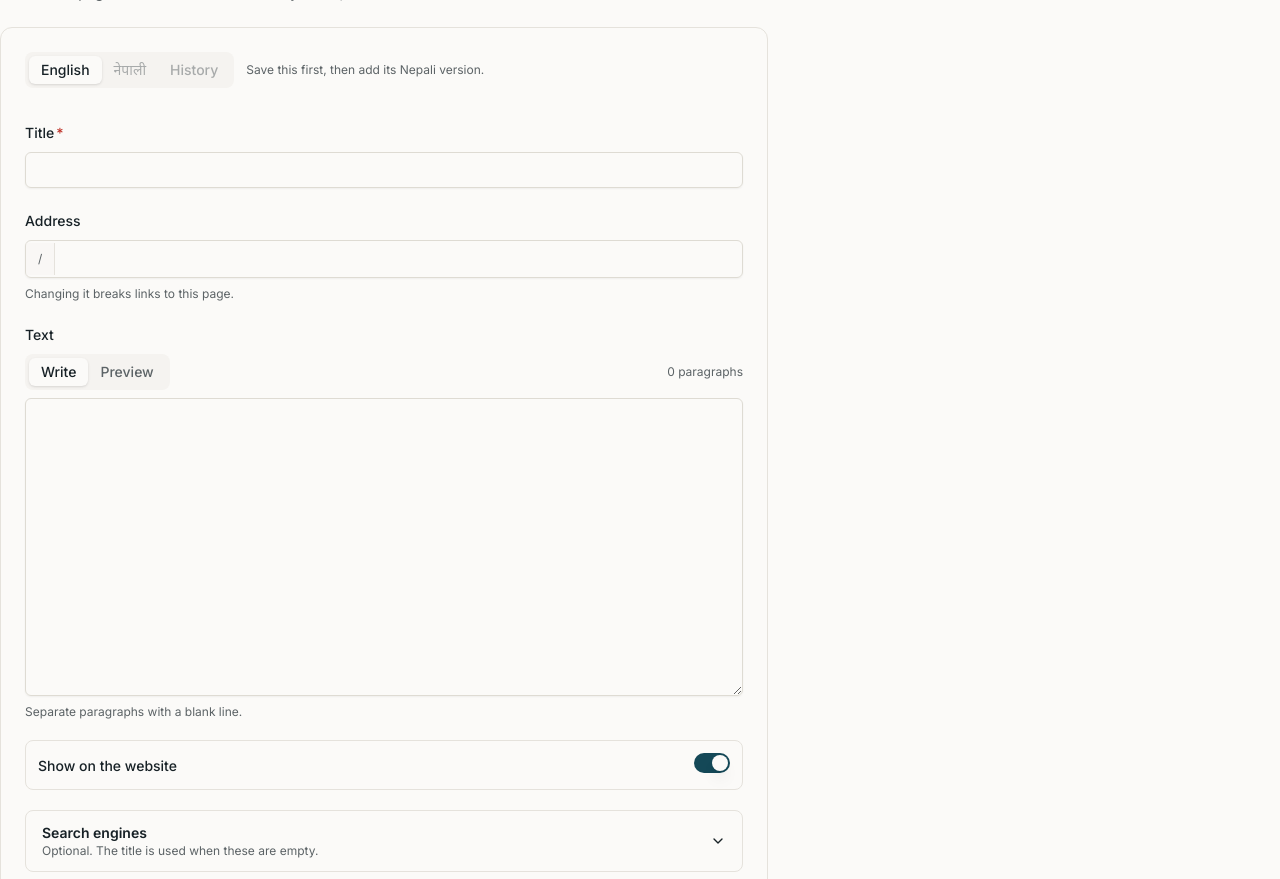
links to pages › refuses a page address the site already uses
In the field labelled "Title*": point(384, 170) x1=25 y1=152 x2=743 y2=188, type "Contact"
(page scrolled)
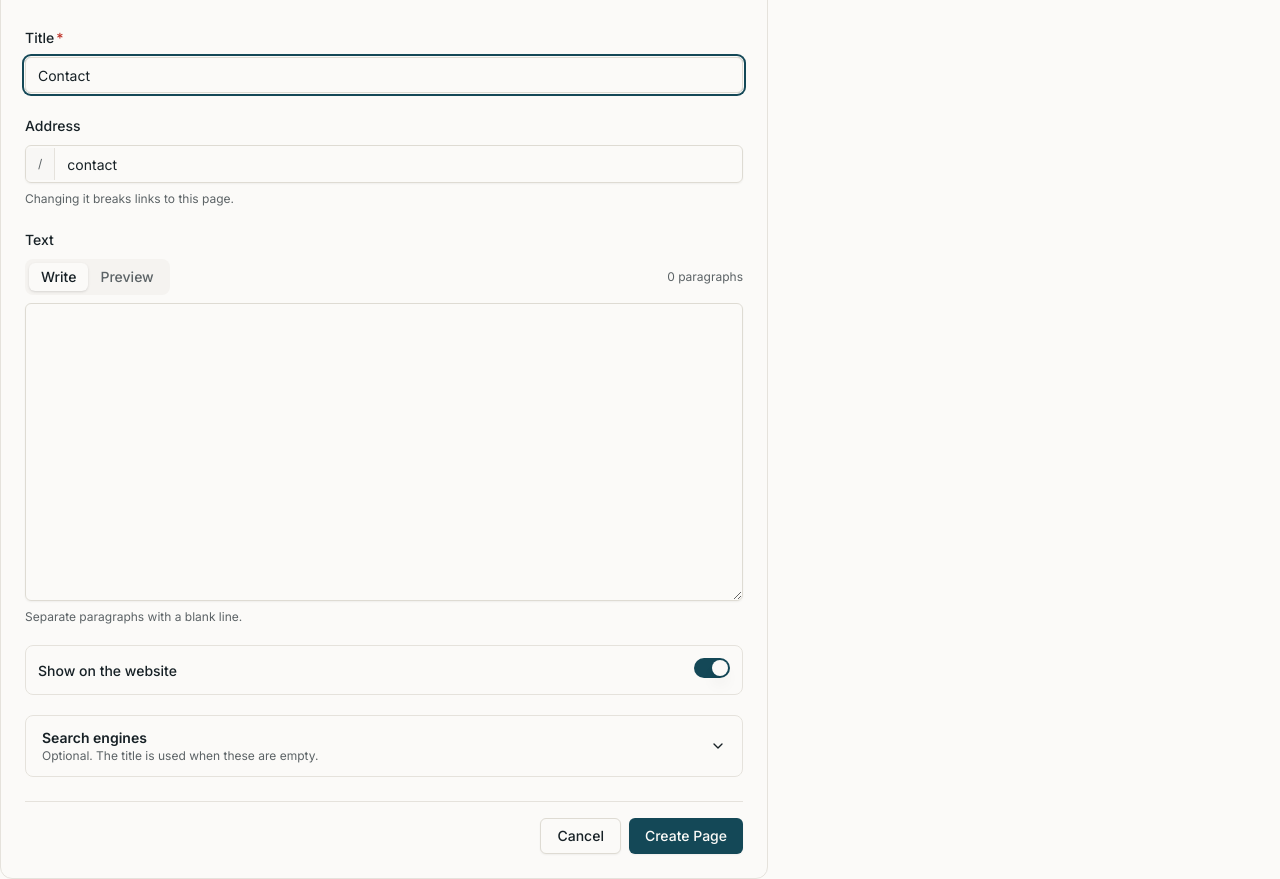
Click the button "Create Page": point(686, 836) x1=629 y1=818 x2=743 y2=854
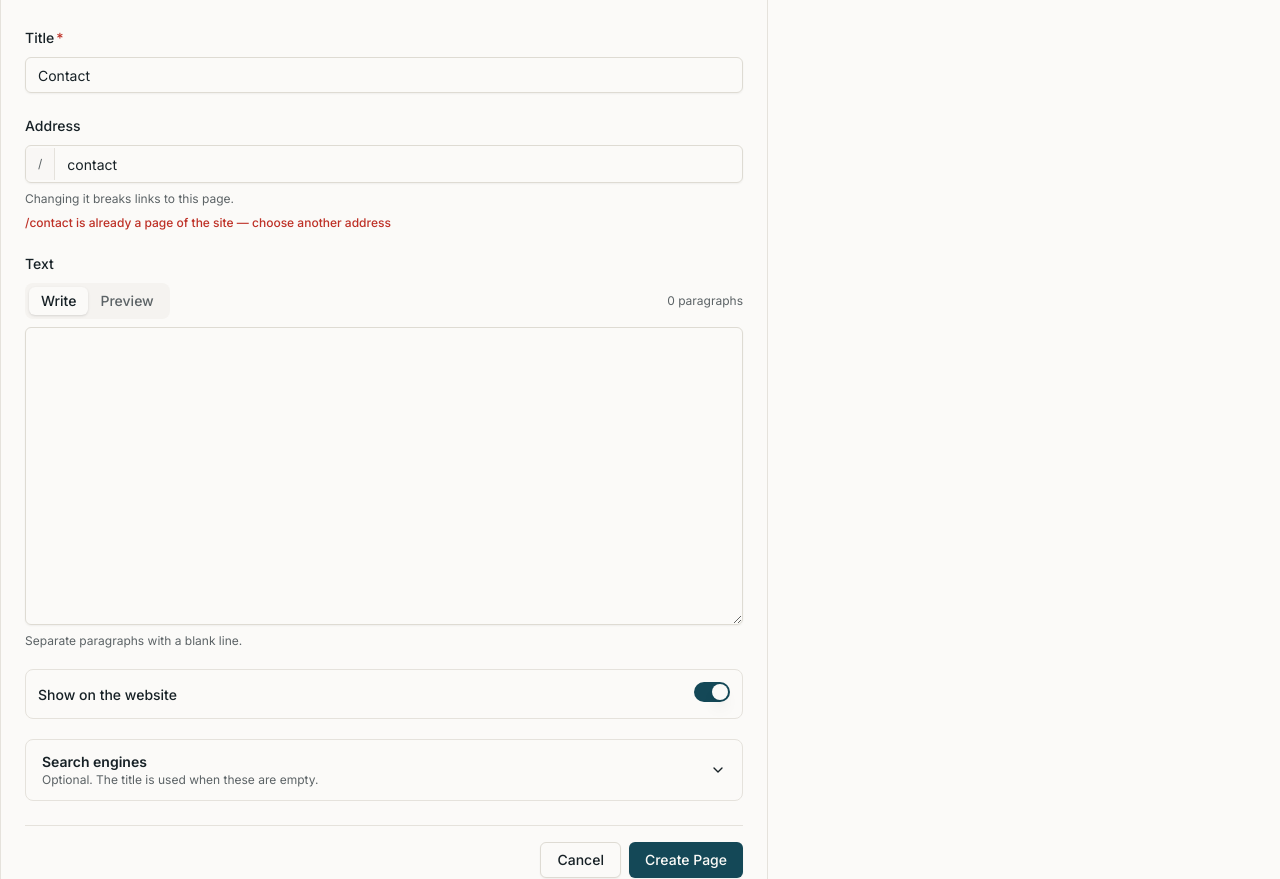
Now the text "/contact is already a page of the site — choose another address" is shown, box x1=25 y1=215 x2=391 y2=230
